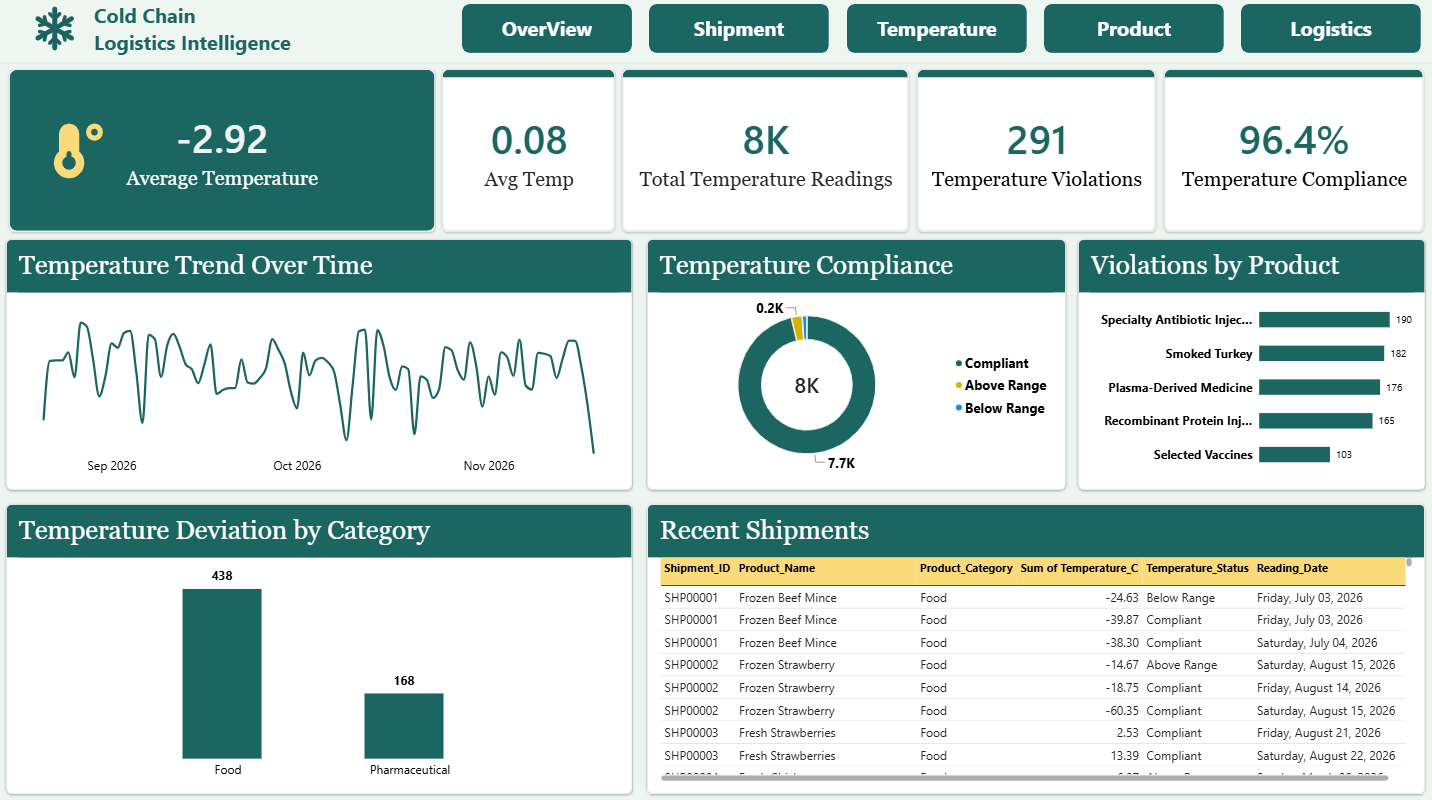

The page's visual inventory and layout, read from the dashboard file:
{"tool":"powerbi","page":{"name":"Temperature Monitoring","canvas":[1920,1080],"ordinal":2},"visuals":[{"type":"cardVisual","fields":{"Data":["_Measures.Total Temperature Readings"]},"box":[835.3,98.4,381.7,216.8],"z":0},{"type":"cardVisual","fields":{"Data":["_Measures.Temperature Compliance"]},"box":[1556.2,98.4,345.8,216.8],"z":1000},{"type":"cardVisual","fields":{"Data":["_Measures.Temperature Violations"]},"box":[1227.6,98.4,317.9,216.8],"z":2000},{"type":"cardVisual","fields":{"Data":["_Measures.Avg Temperature Deviation"]},"box":[595.9,98.4,230.1,216.8],"z":3000},{"type":"lineClusteredColumnComboChart","title":"Temperature Deviation by Category","fields":{"Category":["vw_Temperature_Compliance.Product_Category"],"Y":["Sum(vw_Temperature_Compliance.Temperature_Deviation)"]},"box":[16,677,832.6,385.7],"z":4000},{"type":"donutChart","title":"Temperature Compliance","fields":{"Category":["vw_Temperature_Compliance.Temperature_Status"],"Y":["CountNonNull(vw_Temperature_Compliance.Reading_ID)"]},"box":[868.5,324.5,557.3,333.8],"z":5000},{"type":"clusteredBarChart","title":"Violations by Product","fields":{"Category":["vw_Temperature_Compliance.Product_Name"],"Y":["CountNonNull(vw_Temperature_Compliance.Reading_ID)"]},"box":[1441.8,324.5,461.5,333.8],"z":6000},{"type":"lineChart","title":"Temperature Trend Over Time","fields":{"Category":["vw_Temperature_Compliance.Reading_Date"],"Y":["Avg(vw_Temperature_Compliance.Temperature_C)"]},"box":[16,324.5,832.6,333.8],"z":7000},{"type":"cardVisual","fields":{"Data":["_Measures.Average Temperature"]},"box":[20,98.4,567,216.8],"z":8000},{"type":"tableEx","title":"Recent Shipments","fields":{"Values":["vw_Temperature_Compliance.Shipment_ID","vw_Temperature_Compliance.Product_Name","vw_Temperature_Compliance.Product_Category","Sum(vw_Temperature_Compliance.Temperature_C)","vw_Temperature_Compliance.Temperature_Status","vw_Temperature_Compliance.Reading_Date"]},"box":[868.8,677.4,1034.8,385.8],"z":10000},{"type":"shape","box":[0,0,1920.6,90.4],"z":11000},{"type":"image","box":[63.8,153,90.4,109.1],"z":12000},{"type":"actionButton","box":[622.5,12,226.1,65.2],"z":13000},{"type":"actionButton","box":[871.5,12,239.4,65.2],"z":14000},{"type":"actionButton","box":[1133.9,12,239.4,65.2],"z":15000},{"type":"actionButton","box":[1396.2,12,239.4,65.2],"z":16000},{"type":"actionButton","box":[1658.6,12,239.4,65.2],"z":17000},{"type":"image","box":[41.2,12,78.5,65.2],"z":18000},{"type":"textbox","box":[133,8,445.6,90.4],"z":19000}]}

Visuals, with their boxes in screenshot pixels (x1, y1, x2, y2), scaled from the page's 1920x1080 canvas onto the 1432x800 screenshot:
cardVisual - _Measures.Total Temperature Readings: bbox=[623, 73, 908, 233]
cardVisual - _Measures.Temperature Compliance: bbox=[1161, 73, 1419, 233]
cardVisual - _Measures.Temperature Violations: bbox=[916, 73, 1153, 233]
cardVisual - _Measures.Avg Temperature Deviation: bbox=[444, 73, 616, 233]
"Temperature Deviation by Category" lineClusteredColumnComboChart: bbox=[12, 501, 633, 787]
"Temperature Compliance" donutChart: bbox=[648, 240, 1063, 488]
"Violations by Product" clusteredBarChart: bbox=[1075, 240, 1420, 488]
"Temperature Trend Over Time" lineChart: bbox=[12, 240, 633, 488]
cardVisual - _Measures.Average Temperature: bbox=[15, 73, 438, 233]
"Recent Shipments" tableEx: bbox=[648, 502, 1420, 788]
shape: bbox=[0, 0, 1431, 67]
image: bbox=[48, 113, 115, 194]
actionButton: bbox=[464, 9, 633, 57]
actionButton: bbox=[650, 9, 829, 57]
actionButton: bbox=[846, 9, 1024, 57]
actionButton: bbox=[1041, 9, 1220, 57]
actionButton: bbox=[1237, 9, 1416, 57]
image: bbox=[31, 9, 89, 57]
textbox: bbox=[99, 6, 432, 73]
